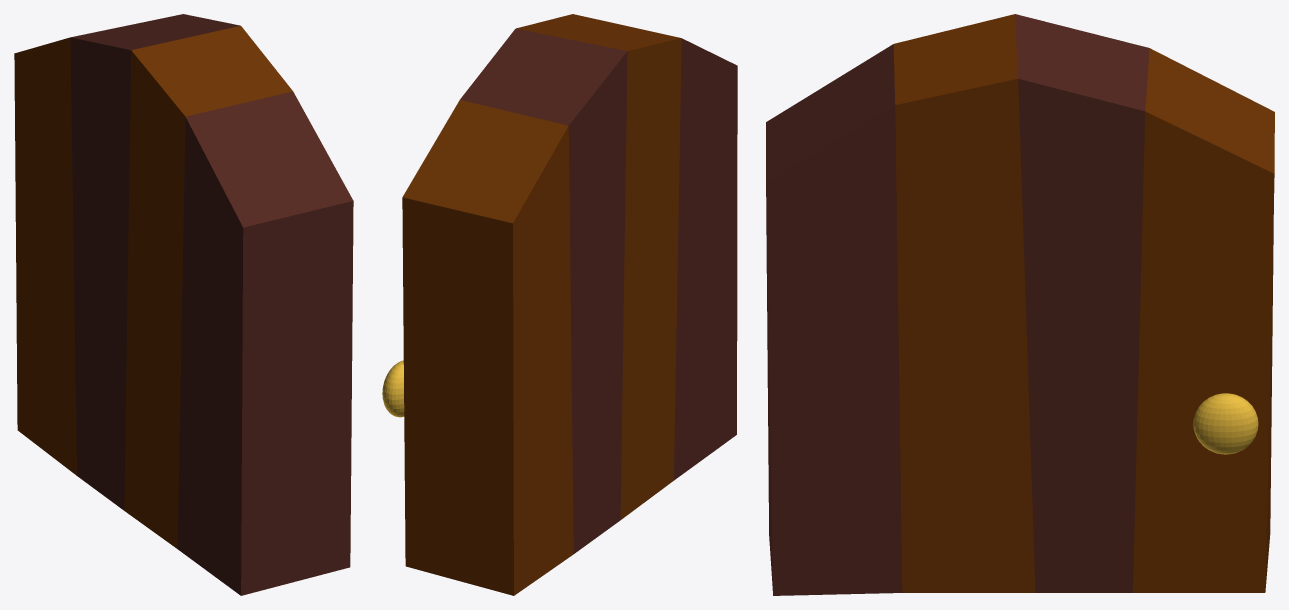
Rendered from PORTINHA2.0.fbx.
The picture shows the model from 3 angles, left to right: view 1: azimuth 30°, elevation 25°; view 2: azimuth 150°, elevation 25°; view 3: azimuth 270°, elevation 25°; orthographic projection. The views are drawn at different scales.
Parts seen in each view (by area): view 1: Cube.001; view 2: Cube.001, Sphere; view 3: Cube.001, Sphere.
Boxes of the visible parts, x1=… form: Cube.001: x1=14, y1=14, x2=353, y2=595; Cube.001: x1=402, y1=14, x2=737, y2=595; Sphere: x1=382, y1=360, x2=404, y2=417; Cube.001: x1=766, y1=14, x2=1274, y2=595; Sphere: x1=1193, y1=393, x2=1258, y2=454.
Size of the model in its own units: 43.53 by 132 by 116.
